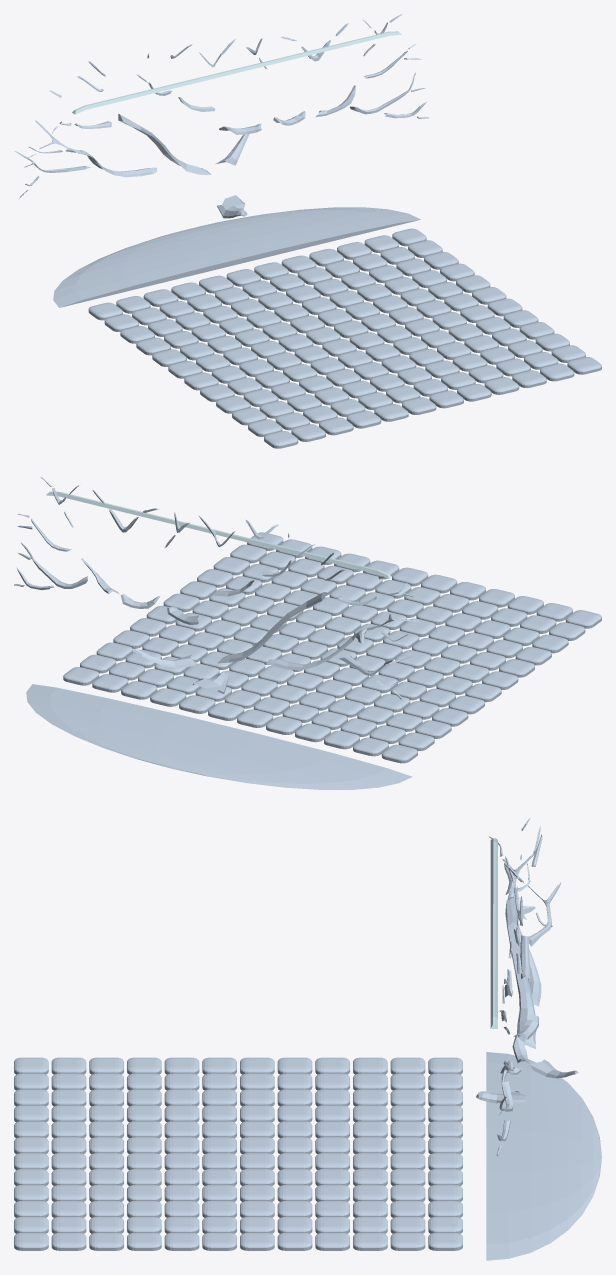
File: fieldWinter.glb
3 views of the same model, one above another, from view 1: azimuth 30°, elevation 25°; view 2: azimuth 150°, elevation 25°; view 3: azimuth 270°, elevation 25° (orthographic). The views are drawn at different scales.
Parts seen in each view (by area): view 1: filed.003, island, snowTree, billboard.001; view 2: filed.003, island, snowTree, billboard.001; view 3: filed.003, island, snowTree, billboard.001.
Part boxes in pixels (x1,y1,x2,y2): filed.003: [88, 228, 601, 448]; island: [53, 207, 420, 307]; snowTree: [14, 14, 429, 218]; billboard.001: [72, 31, 401, 114]; filed.003: [63, 532, 601, 763]; island: [26, 684, 412, 789]; snowTree: [14, 477, 418, 700]; billboard.001: [46, 491, 391, 578]; filed.003: [14, 1057, 462, 1250]; island: [486, 1052, 601, 1260]; snowTree: [476, 818, 578, 1156]; billboard.001: [490, 838, 497, 1028].
Bounding box in the file's own units: 14.26 × 7.6 × 15.62.
